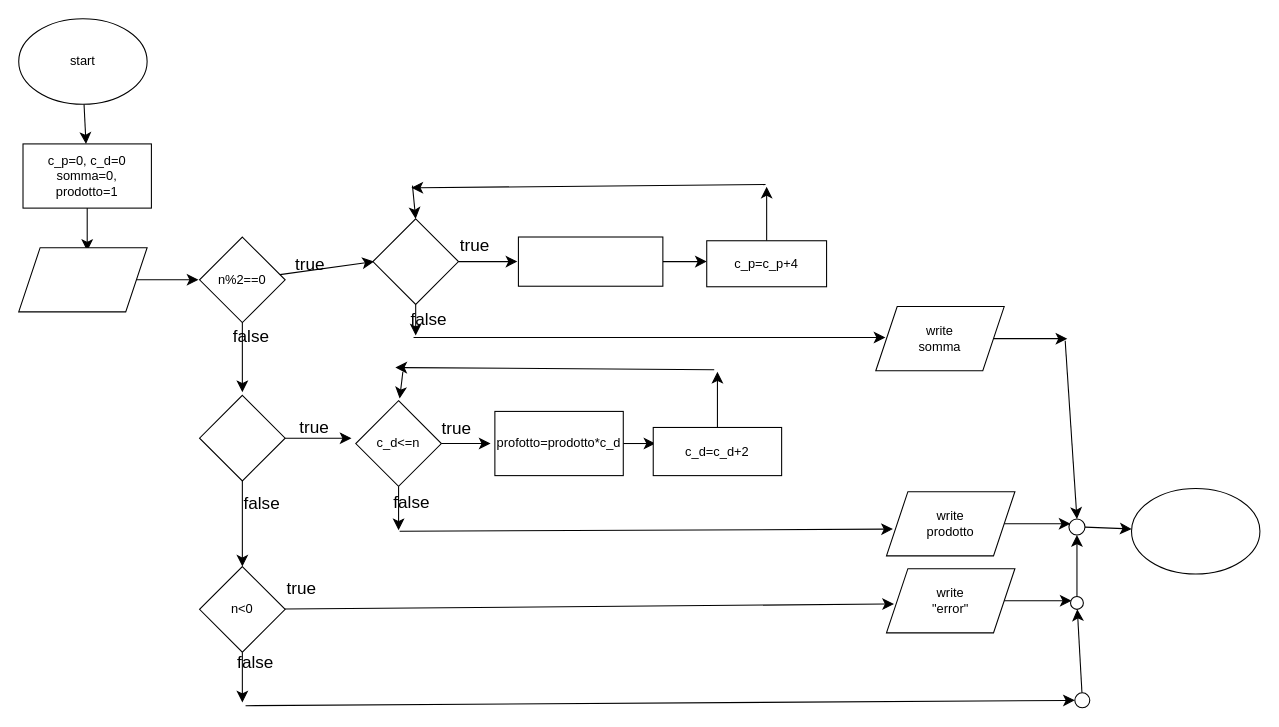
The diagram is 1279 pixels wide and 727 high, and some of its shapes have lost their labels. The shapes that lost their labels are listed below. From the top down, each one's centre as x and y in pixels, then its label:
the point at 82,279: read n
the point at 415,261: c_p<n
the point at 590,261: somma= somma+ c_p
the point at 241,437: not n%==0
the point at 1195,530: end
